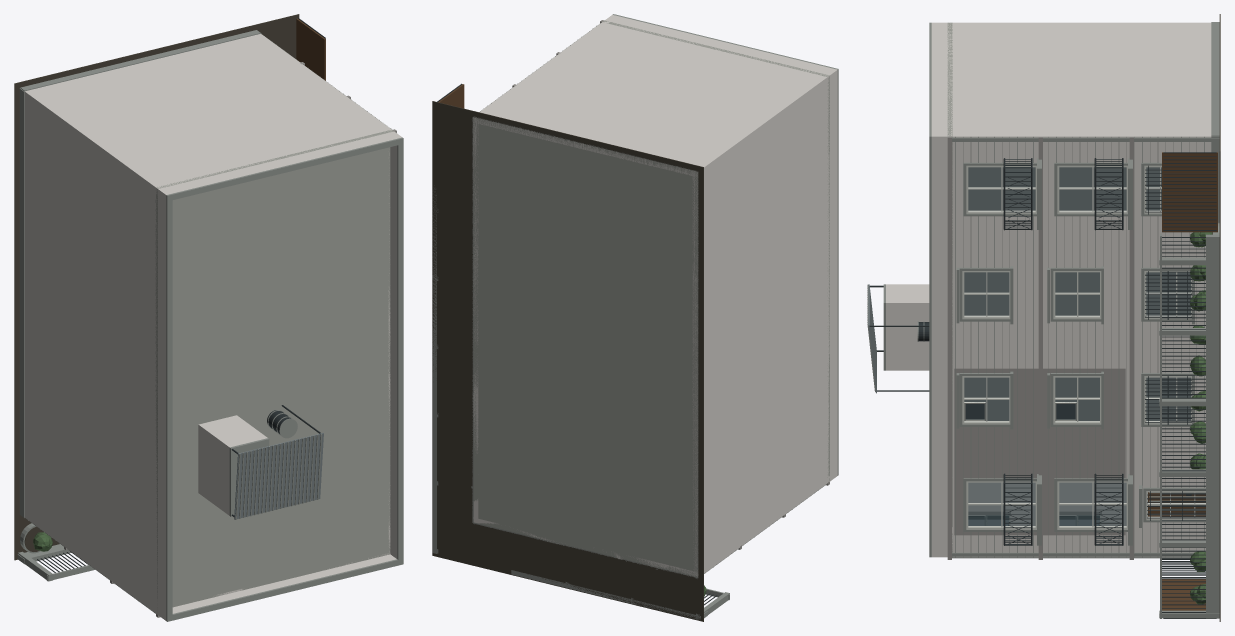
File: 03_corner.obj
3 renders of one model, left to right at view 1: azimuth 30°, elevation 25°; view 2: azimuth 150°, elevation 25°; view 3: azimuth 270°, elevation 25°, orthographic. The views are drawn at different scales.
Parts seen in each view (by area): view 1: roof_slab_22100, wall_68, wall_44, parapet_22112, parapet_cap_22144, site_surface_12, canopy_sheet_22232, rooftop_room_22176, plinth_80, plinth_56, gate_29672, rooftop_room_cap_22208; view 2: building_slab_0, wall_68, site_surface_12, wall_44, parapet_22112, boundary_base_28376, roof_slab_22100, parapet_cap_22144, boundary_base_24292, plinth_22028; view 3: wall_44, wall_68, parapet_22112, boundary_base_28376, gate_29672, rooftop_room_22176, balcony_window_panel_17360, balcony_window_panel_20596, balcony_window_panel_15580, balcony_window_panel_18816, wall_10624, wall_10804 (+61 smaller).
Part boxes in pixels (bbox=[...]): roof_slab_22100: bbox=[155, 130, 392, 607]; wall_68: bbox=[24, 90, 162, 614]; wall_44: bbox=[24, 34, 391, 194]; parapet_22112: bbox=[158, 131, 402, 620]; parapet_cap_22144: bbox=[166, 137, 403, 621]; site_surface_12: bbox=[14, 14, 299, 560]; canopy_sheet_22232: bbox=[234, 432, 323, 519]; rooftop_room_22176: bbox=[198, 415, 267, 515]; plinth_80: bbox=[19, 88, 24, 517]; plinth_56: bbox=[20, 30, 260, 91]; gate_29672: bbox=[296, 18, 325, 80]; rooftop_room_cap_22208: bbox=[229, 438, 269, 516]; building_slab_0: bbox=[473, 117, 698, 577]; wall_68: bbox=[692, 76, 829, 576]; site_surface_12: bbox=[432, 101, 703, 621]; wall_44: bbox=[473, 22, 829, 177]; parapet_22112: bbox=[605, 15, 837, 481]; boundary_base_28376: bbox=[432, 185, 436, 553]; roof_slab_22100: bbox=[603, 21, 829, 480]; parapet_cap_22144: bbox=[612, 14, 838, 475]; boundary_base_24292: bbox=[511, 570, 707, 620]; plinth_22028: bbox=[472, 117, 473, 522]; wall_44: bbox=[947, 22, 1211, 142]; wall_68: bbox=[952, 23, 1210, 420]; parapet_22112: bbox=[931, 22, 947, 557]; boundary_base_28376: bbox=[1206, 234, 1219, 618]; gate_29672: bbox=[1162, 152, 1217, 232]; rooftop_room_22176: bbox=[886, 284, 929, 370]; balcony_window_panel_17360: bbox=[1059, 167, 1126, 210]; balcony_window_panel_20596: bbox=[968, 167, 1035, 210]; balcony_window_panel_15580: bbox=[1059, 482, 1126, 525]; balcony_window_panel_18816: bbox=[968, 482, 1035, 525]; wall_10624: bbox=[1057, 427, 1101, 478]; wall_10804: bbox=[966, 427, 1010, 478].
Size of the model in its own units: 10 by 16 by 10.88.
